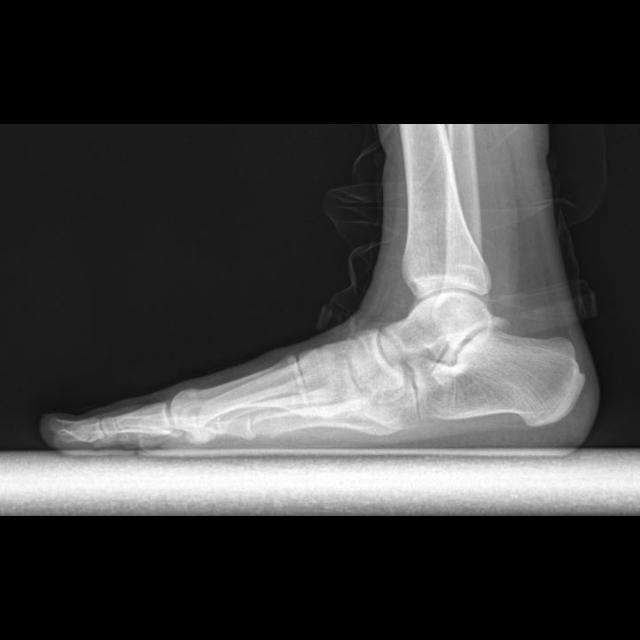a: (411, 327, 584, 425)
b: (345, 330, 404, 402)
c: (169, 355, 310, 428)
